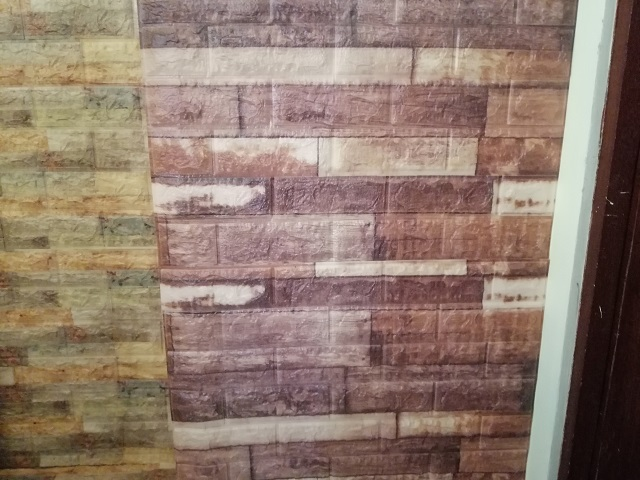wall: (141, 2, 524, 479), (1, 4, 166, 473)
